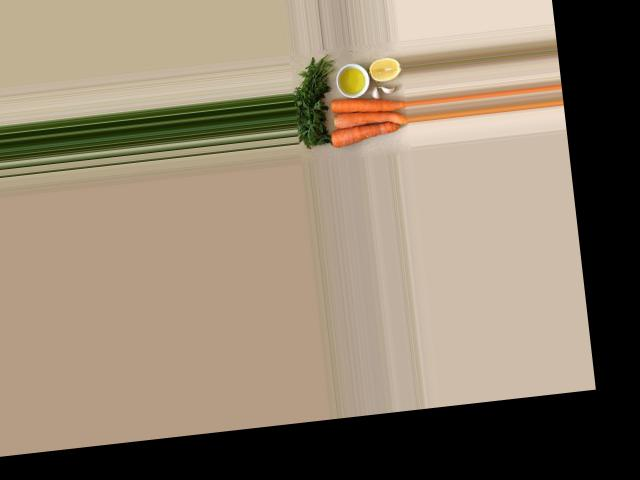carrot: (326, 91, 406, 120)
